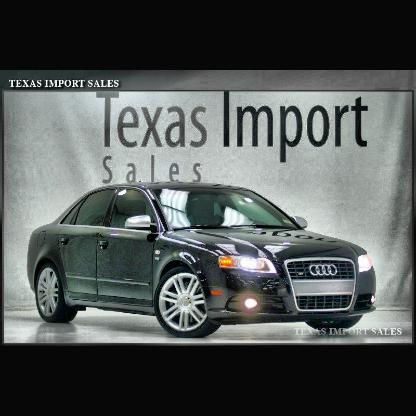Audi S4 Sedan 2007: (28, 182, 376, 339)
